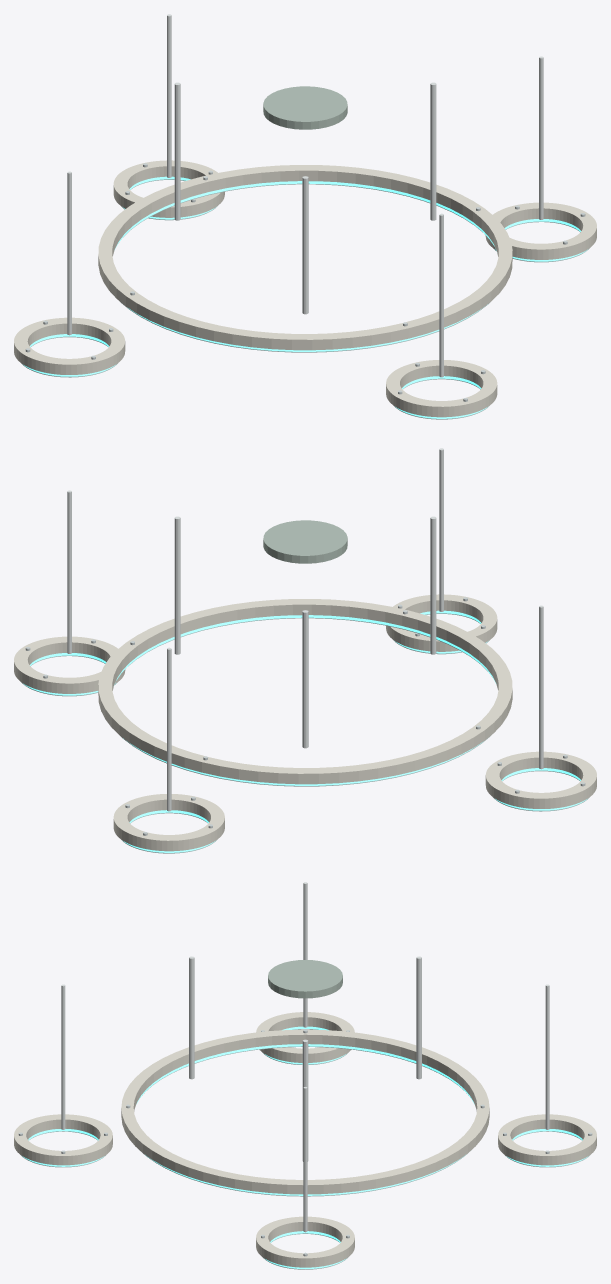
The model's file is s7-lc1-g01-1plus4-ring-chandelier.glb.
3 views of the same model, one above another, from view 1: azimuth 30°, elevation 25°; view 2: azimuth 150°, elevation 25°; view 3: azimuth 270°, elevation 25° (orthographic). The views are drawn at different scales.
Visible parts, largest first — view 1: 000_G01_main_cream_housing, 015_G01_satellite_2_cream_housing, 023_G01_satellite_3_cream_housing, 007_G01_satellite_1_cream_housing, 042_top_ceiling_canopy, 031_G01_satellite_4_cream_housing, 001_G01_main_circumference_led_emitter, 039_main_three_point_hanging_cable, 040_main_three_point_hanging_cable, 041_main_three_point_hanging_cable, 002_G01_main_diffuser, 022_satellite_hanging_cable_2 (+3 smaller); view 2: 000_G01_main_cream_housing, 031_G01_satellite_4_cream_housing, 023_G01_satellite_3_cream_housing, 007_G01_satellite_1_cream_housing, 042_top_ceiling_canopy, 015_G01_satellite_2_cream_housing, 001_G01_main_circumference_led_emitter, 039_main_three_point_hanging_cable, 040_main_three_point_hanging_cable, 041_main_three_point_hanging_cable, 002_G01_main_diffuser, 038_satellite_hanging_cable_4 (+3 smaller); view 3: 000_G01_main_cream_housing, 015_G01_satellite_2_cream_housing, 031_G01_satellite_4_cream_housing, 007_G01_satellite_1_cream_housing, 042_top_ceiling_canopy, 023_G01_satellite_3_cream_housing, 001_G01_main_circumference_led_emitter, 002_G01_main_diffuser, 040_main_three_point_hanging_cable, 041_main_three_point_hanging_cable, 022_satellite_hanging_cable_2, 038_satellite_hanging_cable_4 (+3 smaller).
Boxes of the visible parts, x1,y1,x2,y2 form: 000_G01_main_cream_housing: (98,165,512,350); 015_G01_satellite_2_cream_housing: (386,360,497,417); 023_G01_satellite_3_cream_housing: (14,317,125,374); 007_G01_satellite_1_cream_housing: (485,202,596,259); 042_top_ceiling_canopy: (263,86,347,129); 031_G01_satellite_4_cream_housing: (113,160,224,217); 001_G01_main_circumference_led_emitter: (114,181,496,351); 039_main_three_point_hanging_cable: (430,82,436,220); 040_main_three_point_hanging_cable: (302,176,308,314); 041_main_three_point_hanging_cable: (174,82,180,220); 002_G01_main_diffuser: (119,183,490,352); 022_satellite_hanging_cable_2: (439,213,443,377); 000_G01_main_cream_housing: (98,599,512,784); 031_G01_satellite_4_cream_housing: (113,794,224,851); 023_G01_satellite_3_cream_housing: (485,751,596,808); 007_G01_satellite_1_cream_housing: (14,636,125,693); 042_top_ceiling_canopy: (263,520,347,563); 015_G01_satellite_2_cream_housing: (386,594,497,651); 001_G01_main_circumference_led_emitter: (114,615,496,785); 039_main_three_point_hanging_cable: (174,516,180,654); 040_main_three_point_hanging_cable: (430,516,436,654); 041_main_three_point_hanging_cable: (302,610,308,748); 002_G01_main_diffuser: (120,617,491,786); 038_satellite_hanging_cable_4: (167,647,171,811); 000_G01_main_cream_housing: (121,1029,489,1194); 015_G01_satellite_2_cream_housing: (14,1114,112,1165); 031_G01_satellite_4_cream_housing: (498,1114,596,1165); 007_G01_satellite_1_cream_housing: (256,1216,354,1267); 042_top_ceiling_canopy: (268,960,342,998); 023_G01_satellite_3_cream_housing: (256,1012,354,1062); 001_G01_main_circumference_led_emitter: (136,1044,474,1195); 002_G01_main_diffuser: (139,1046,471,1196); 040_main_three_point_hanging_cable: (189,956,194,1079); 041_main_three_point_hanging_cable: (416,956,421,1079); 022_satellite_hanging_cable_2: (61,984,65,1129); 038_satellite_hanging_cable_4: (545,984,549,1129).
Bounding box in the file's own units: 3.42 × 1.12 × 3.42.
